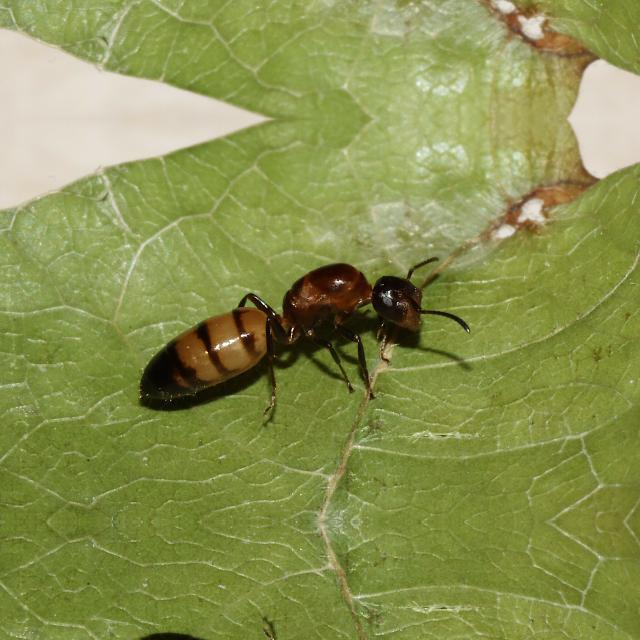Colobopsis: (112, 248, 468, 422)
